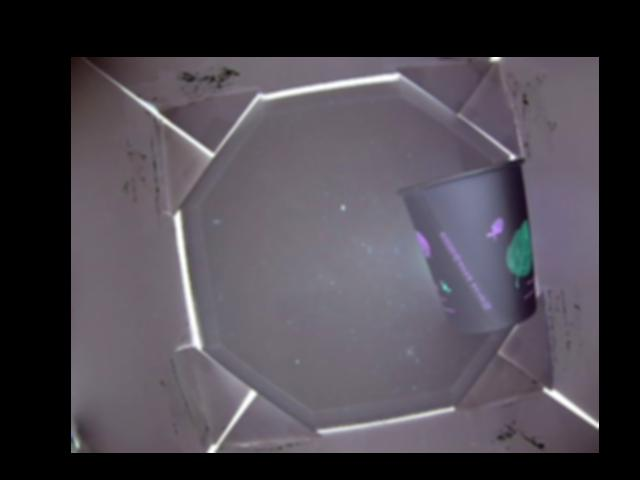Cup: (400, 156, 539, 329)
